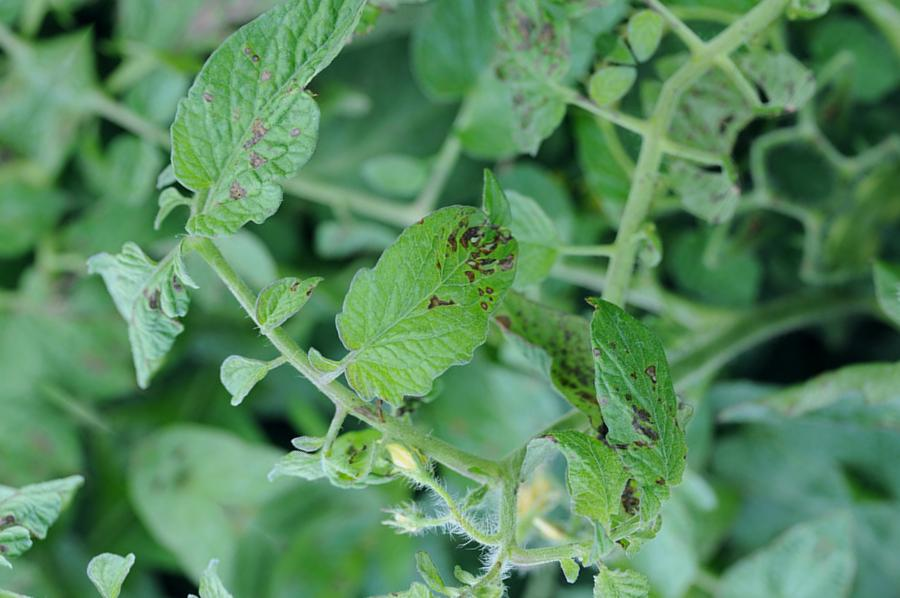Tomato leaf bacterial spot: (126, 0, 451, 258), (298, 137, 558, 431), (522, 287, 771, 546)
